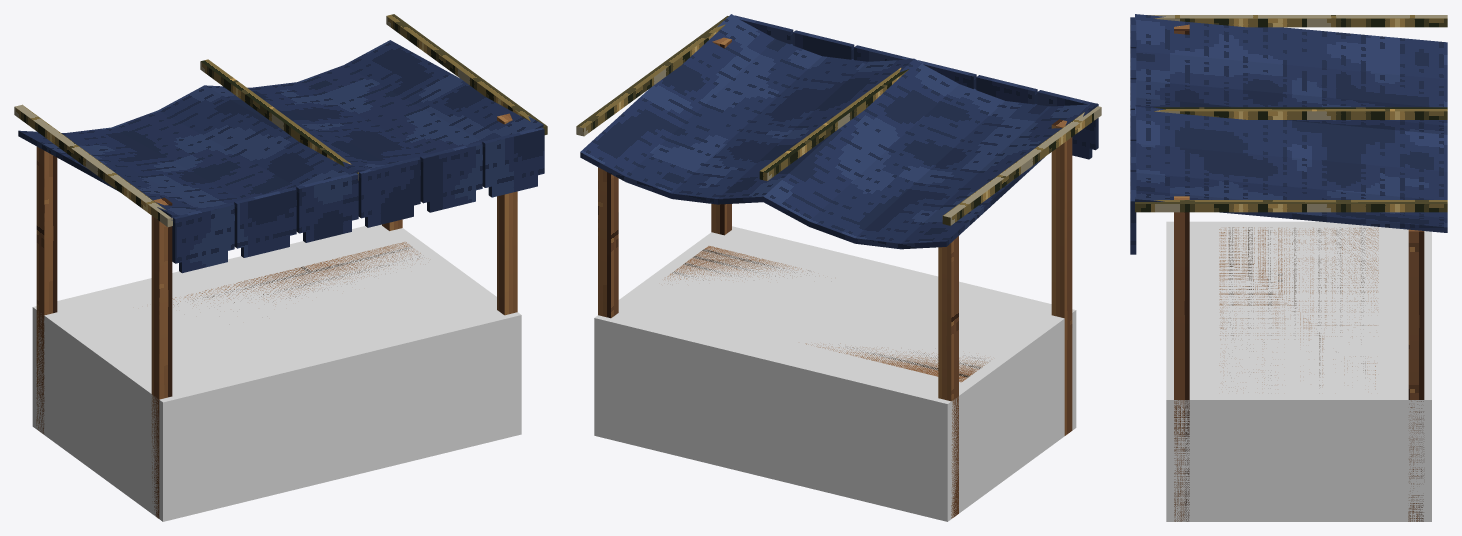
File: JP_Prop_MarketStall_B.glb
The picture shows the model from 3 angles, left to right: view 1: azimuth 30°, elevation 25°; view 2: azimuth 150°, elevation 25°; view 3: azimuth 270°, elevation 25°; orthographic projection. The views are drawn at different scales.
Parts seen in each view (by area): view 1: COL_JP_Prop_MarketStall_B, JP_Prop_MarketStall_B; view 2: COL_JP_Prop_MarketStall_B, JP_Prop_MarketStall_B; view 3: JP_Prop_MarketStall_B, COL_JP_Prop_MarketStall_B.
Part boxes in pixels (x1,y1,x2,y2): COL_JP_Prop_MarketStall_B: (32,224,521,521); JP_Prop_MarketStall_B: (14,14,547,518); COL_JP_Prop_MarketStall_B: (594,226,1076,521); JP_Prop_MarketStall_B: (576,14,1101,518); JP_Prop_MarketStall_B: (1130,14,1447,521); COL_JP_Prop_MarketStall_B: (1166,221,1431,521).
Size of the model in its own units: 2.86 by 2.3 by 2.03.
4 materials, 4 textured.
